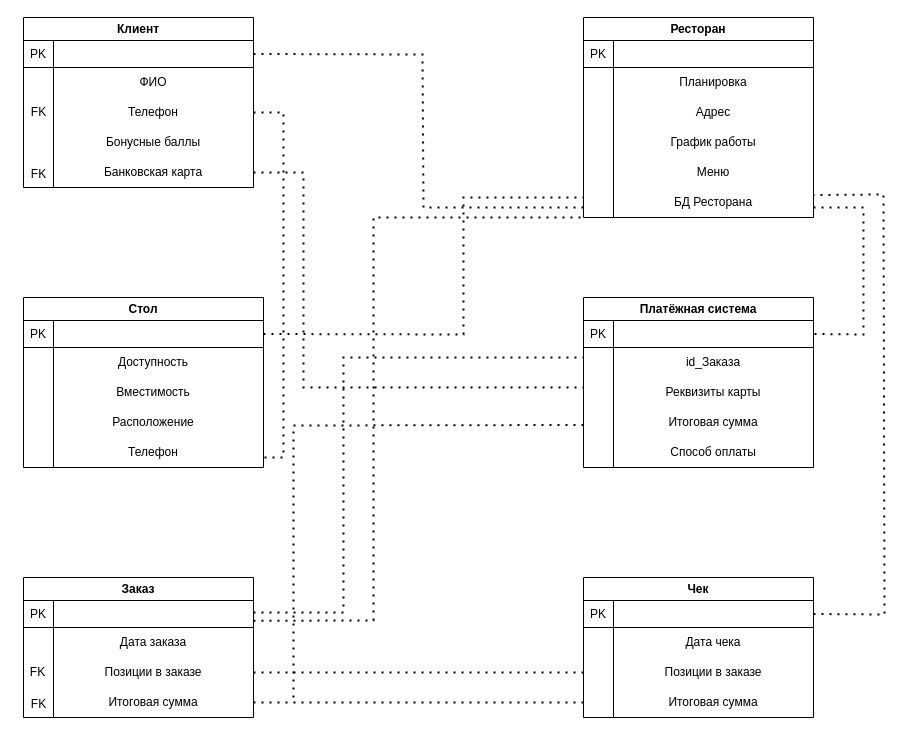
Image size: 903x737. Some labels were removed from this diagram. The shapes that lost their labels are listed below. From the top down, each one's box as (x1, y1, x2, y2) in pixels, then its label:
(52, 40, 254, 68): ID Клиента
(612, 40, 814, 68): ID Ресторана
(52, 320, 264, 348): ID Стола
(612, 320, 814, 348): ID Платёжной системы
(52, 600, 254, 628): ID Заказа
(612, 600, 814, 628): ID Чека
